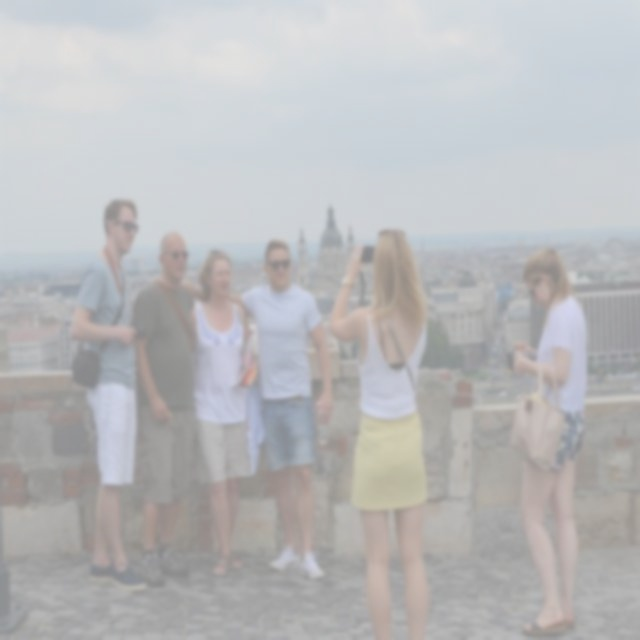pessoa: (180, 236, 338, 584), (325, 224, 433, 639), (502, 243, 593, 639), (70, 196, 150, 597), (127, 224, 204, 589), (188, 245, 262, 580)
